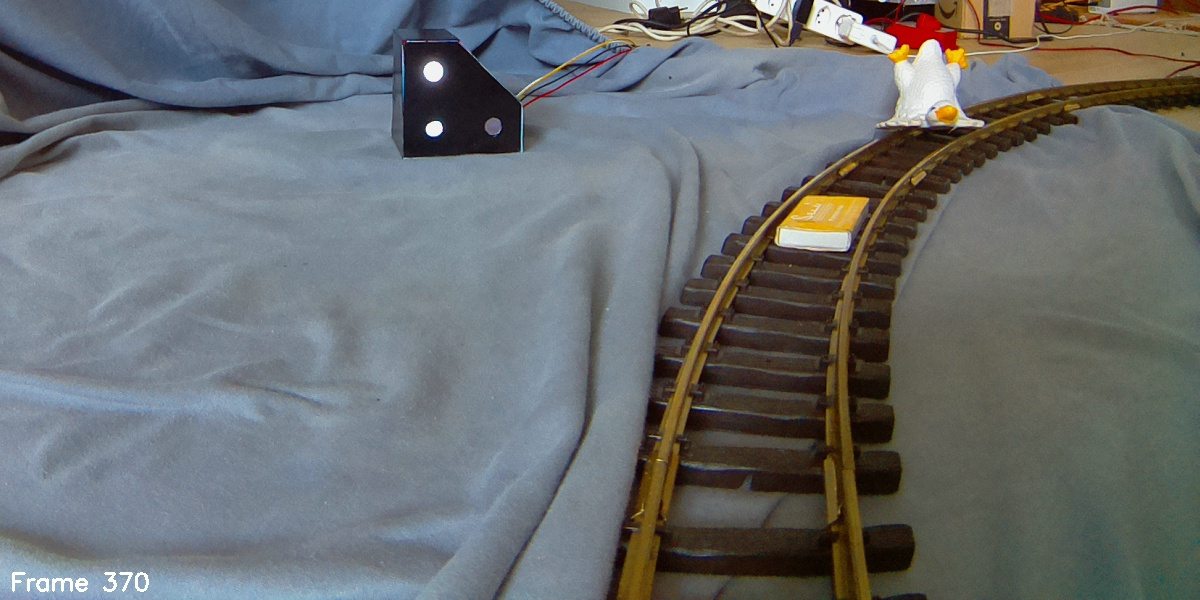Ente: (874, 42, 991, 139)
Fahrt: (392, 24, 524, 165)
